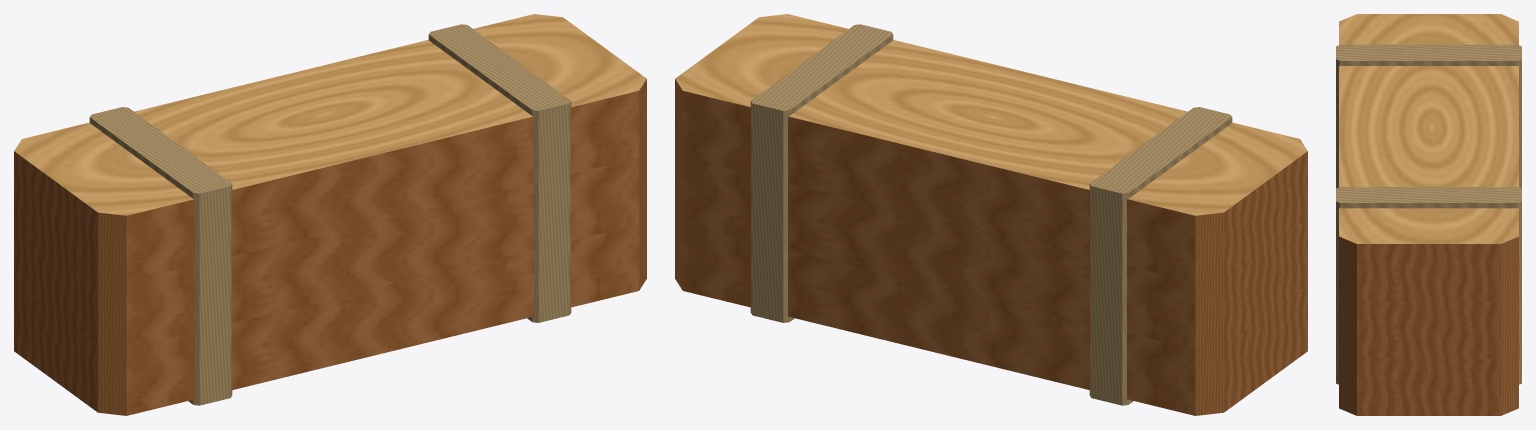
File: finished_planks.glb
The picture shows the model from 3 angles, left to right: view 1: azimuth 30°, elevation 25°; view 2: azimuth 150°, elevation 25°; view 3: azimuth 270°, elevation 25°; orthographic projection. The views are drawn at different scales.
Visible parts, largest first — view 1: Frame; view 2: Frame; view 3: Frame.
Part boxes in pixels (bbox=[...]): Frame: bbox=[14, 14, 646, 415]; Frame: bbox=[675, 14, 1307, 415]; Frame: bbox=[1336, 14, 1521, 415].
Size of the model in its own units: 0.68 by 0.251 by 0.232.
1 material, 1 textured.
